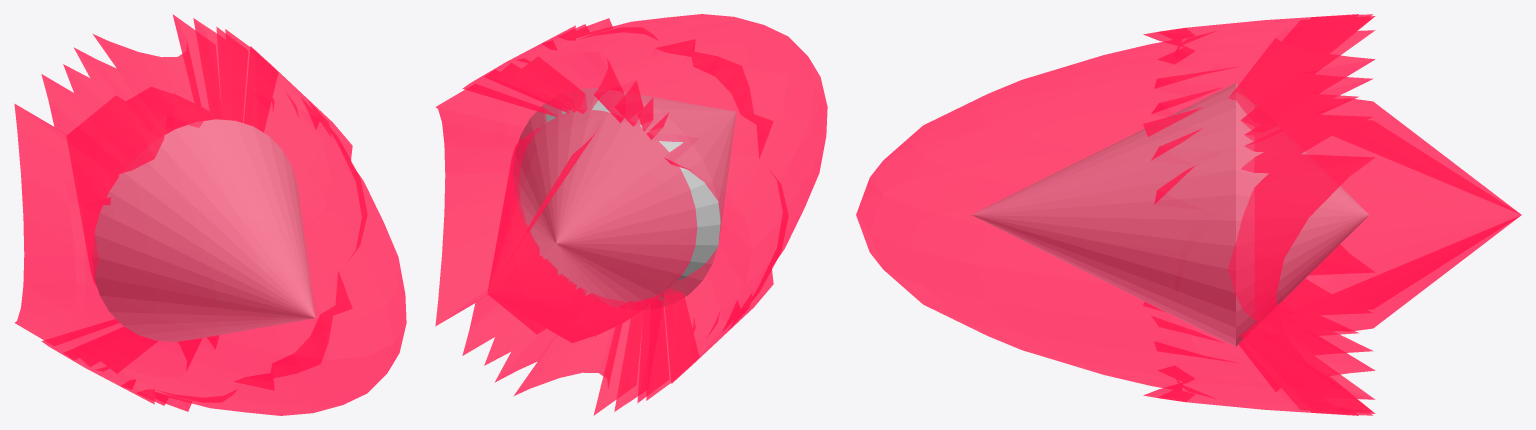
The model's file is EnemyLaser (1).fbx.
3 views of the same model, side by side, from view 1: azimuth 30°, elevation 25°; view 2: azimuth 150°, elevation 25°; view 3: azimuth 270°, elevation 25° (orthographic). The views are drawn at different scales.
Parts seen in each view (by area): view 1: 球, 円錐; view 2: 球, 円錐; view 3: 球, 円錐.
Boxes of the visible parts, box(x1,y1,x2,y2) form: 球: box(14, 14, 406, 415); 円錐: box(92, 119, 315, 341); 球: box(435, 14, 827, 415); 円錐: box(513, 88, 736, 307); 球: box(856, 14, 1521, 415); 円錐: box(972, 83, 1368, 346).
Bounding box in the file's own units: 75.25 × 75.25 × 128.
